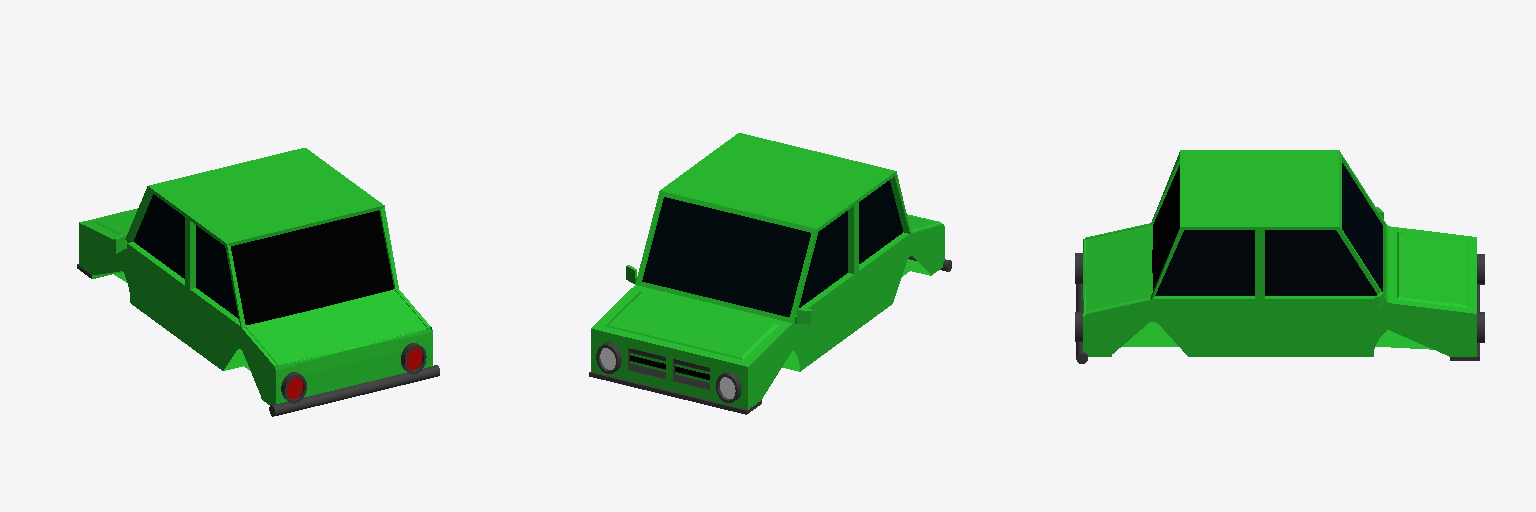
Rendered from sedan.obj.
3 views of the same model, side by side, from view 1: azimuth 30°, elevation 25°; view 2: azimuth 150°, elevation 25°; view 3: azimuth 270°, elevation 25° (orthographic).
Visible parts, largest first — view 1: body_Cube.001, bumper_Cube.002, taillights_Cylinder.009; view 2: body_Cube.001, headlights_Cylinder.002; view 3: body_Cube.001.
Part boxes in pixels (x1,y1,x2,y2): body_Cube.001: (77, 148, 432, 404); bumper_Cube.002: (269, 365, 439, 416); taillights_Cylinder.009: (281, 343, 426, 403); body_Cube.001: (589, 133, 944, 414); headlights_Cylinder.002: (596, 342, 741, 402); body_Cube.001: (1083, 150, 1479, 360).
Bounding box in the file's own units: 1.15 × 0.8064 × 2.21.